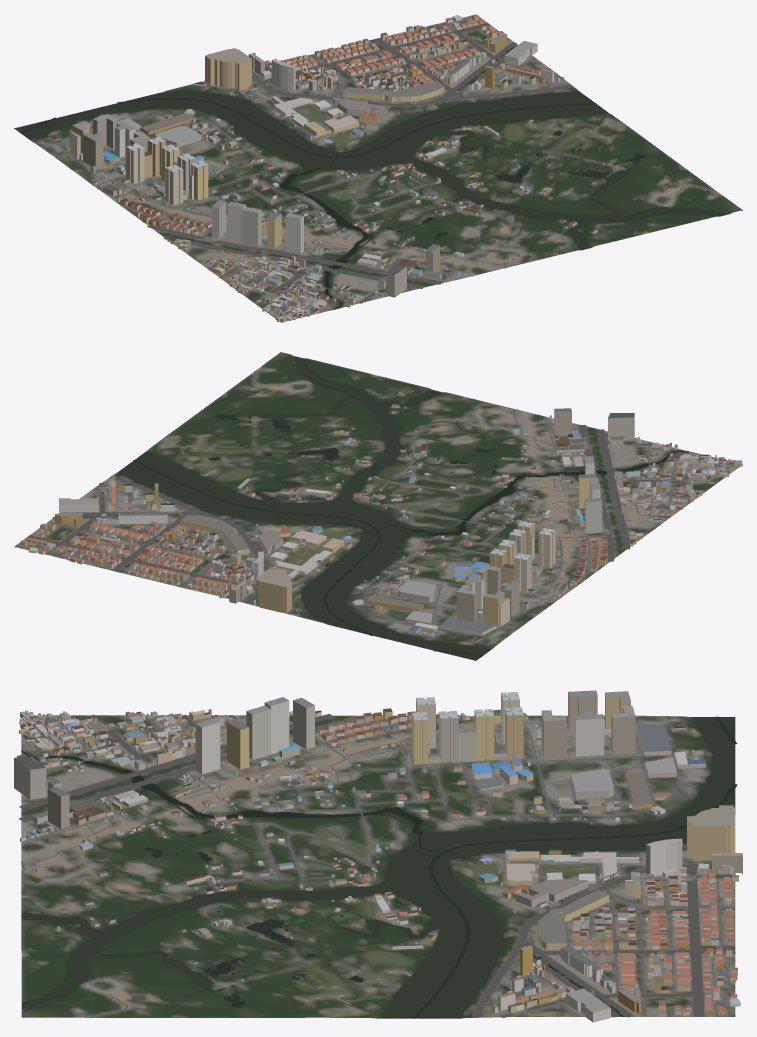
3 views of the same model, one above another, from view 1: azimuth 30°, elevation 25°; view 2: azimuth 150°, elevation 25°; view 3: azimuth 270°, elevation 25° (orthographic). The views are drawn at different scales.
Parts seen in each view (by area): view 1: ground, buildings, water, roads; view 2: ground, buildings, water, roads; view 3: ground, buildings, water, roads.
Boxes of the visible parts, <box> form: ground: <box>14,14,742,322</box>; buildings: <box>50,14,603,322</box>; water: <box>15,44,726,309</box>; roads: <box>57,14,716,318</box>; ground: <box>14,352,742,660</box>; buildings: <box>20,392,742,642</box>; water: <box>91,356,688,660</box>; roads: <box>15,371,737,636</box>; ground: <box>21,715,735,1018</box>; buildings: <box>14,690,742,1022</box>; water: <box>21,716,737,1018</box>; roads: <box>18,714,735,1017</box>.
Size of the model in its own units: 1433 by 109 by 1430.
